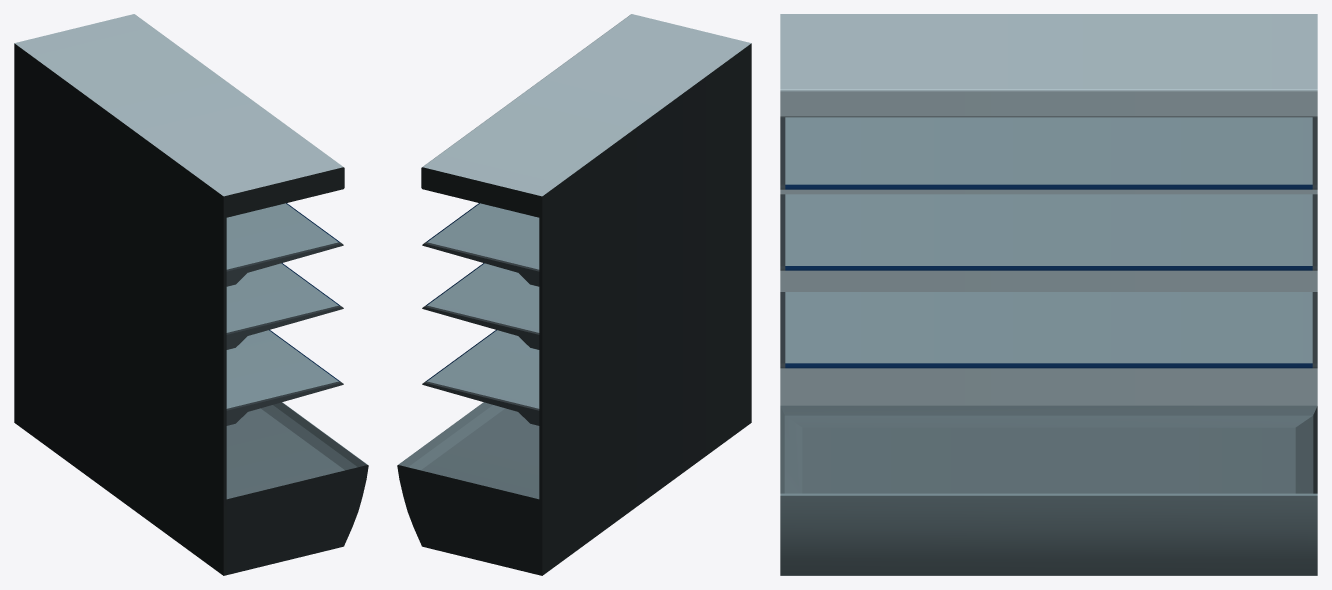
Rendered from Freezer_Open_3row_col.glb.
The picture shows the model from 3 angles, left to right: view 1: azimuth 30°, elevation 25°; view 2: azimuth 150°, elevation 25°; view 3: azimuth 270°, elevation 25°; orthographic projection. The views are drawn at different scales.
Parts seen in each view (by area): view 1: Freezer_Open_3row_col; view 2: Freezer_Open_3row_col; view 3: Freezer_Open_3row_col.
Boxes of the visible parts, x1,y1,x2,y2 form: Freezer_Open_3row_col: [14, 14, 368, 575]; Freezer_Open_3row_col: [397, 14, 751, 575]; Freezer_Open_3row_col: [780, 14, 1317, 575].
Size of the model in its own units: 1.2 by 3 by 3.
Materials: 2 (2 with a texture image).
